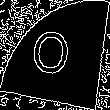O_S: (32, 25, 78, 85)
